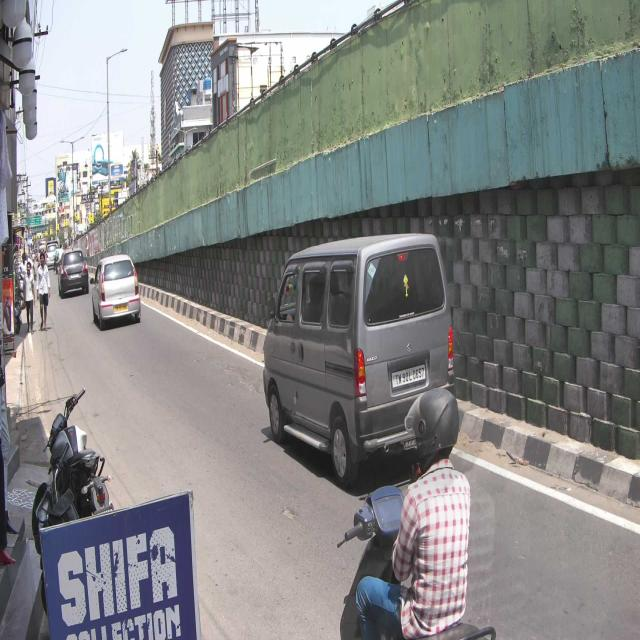single_rider: (336, 383, 494, 640)
